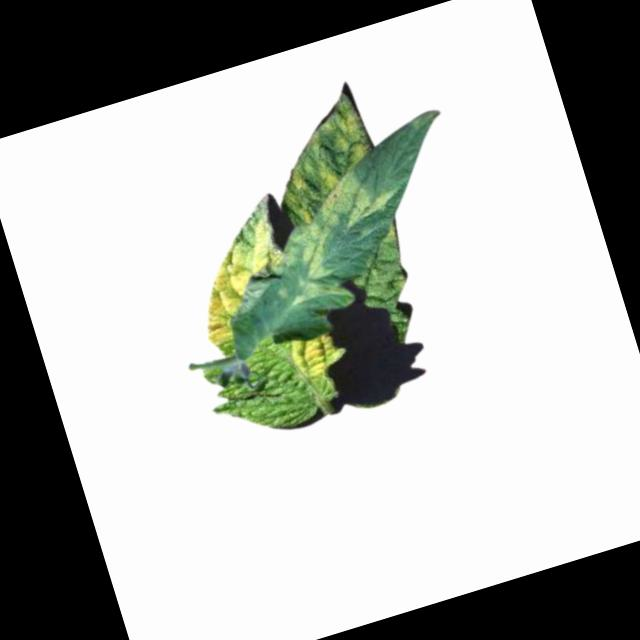Leaf_Mold: (262, 160, 420, 315), (253, 83, 388, 230), (178, 221, 300, 350), (283, 324, 353, 382)
